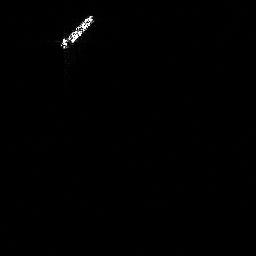ship: (56, 12, 98, 51)
